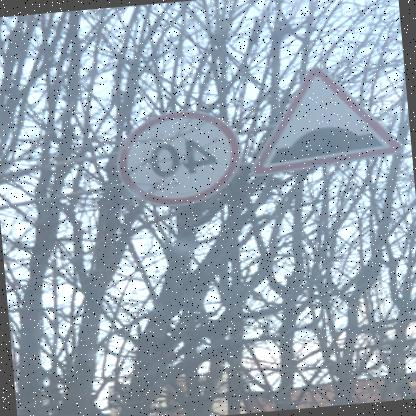speedlimit: (117, 106, 250, 209)
